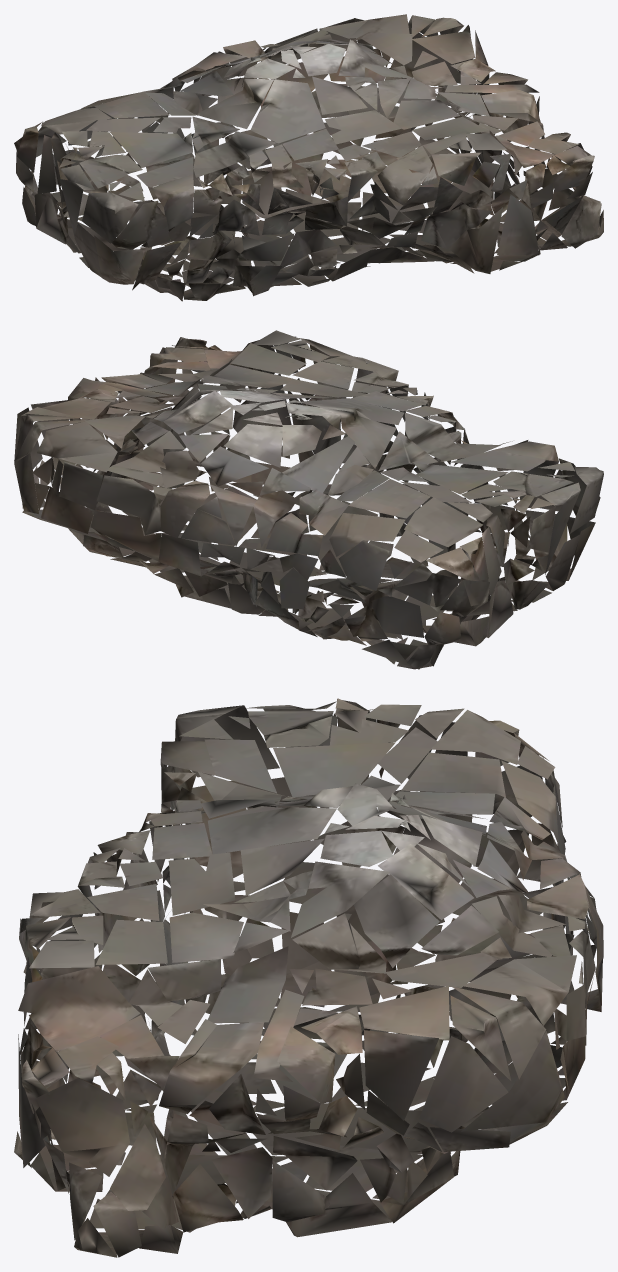
The model's file is slate-slab.glb.
3 views of the same model, one above another, from view 1: azimuth 30°, elevation 25°; view 2: azimuth 150°, elevation 25°; view 3: azimuth 270°, elevation 25° (orthographic). The views are drawn at different scales.
Parts seen in each view (by area): view 1: Mesh_0; view 2: Mesh_0; view 3: Mesh_0.
Part boxes in pixels (left/top/right/bottom): Mesh_0: left=14, top=14, right=603, bottom=301; Mesh_0: left=14, top=330, right=603, bottom=669; Mesh_0: left=14, top=698, right=603, bottom=1257.
Size of the model in its own units: 1.99 by 0.74 by 1.36.
1 material, 1 textured.
